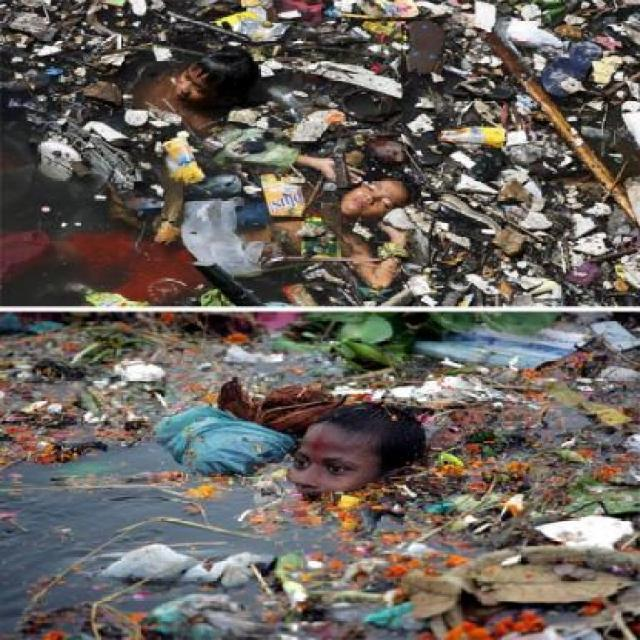garbage: (411, 8, 624, 300), (448, 342, 616, 630), (16, 8, 142, 268), (125, 534, 422, 618), (133, 153, 293, 280), (26, 337, 215, 436), (275, 19, 463, 110)
